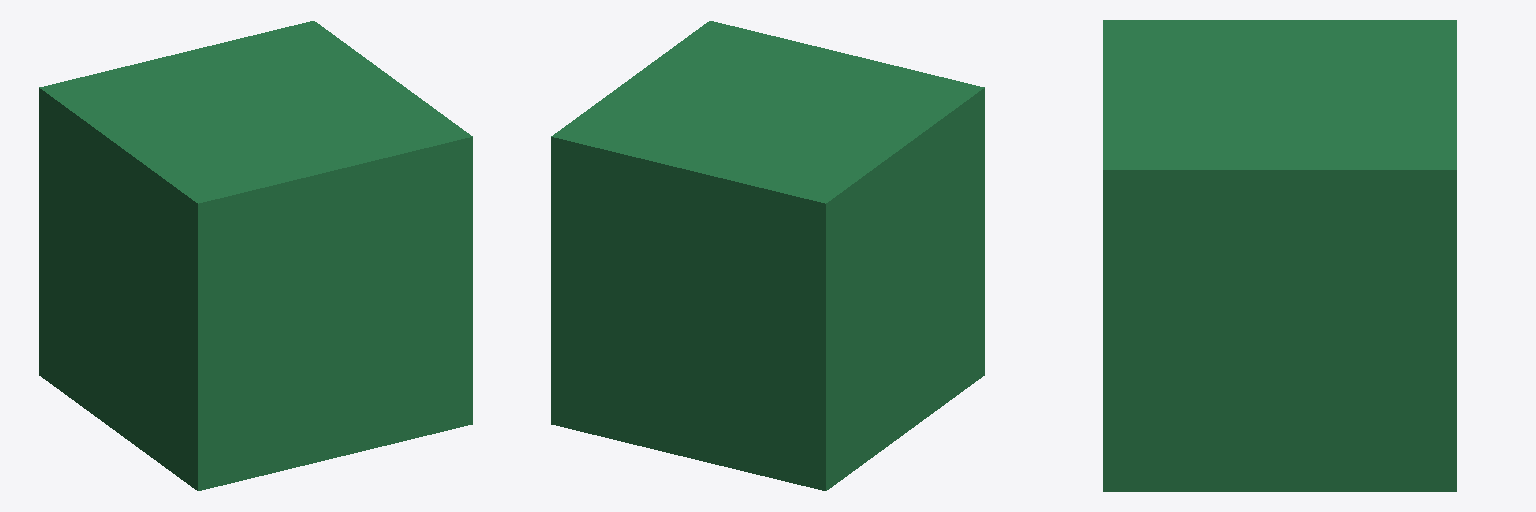
robot.urdf — random_box:
<?xml version='1.0' encoding='UTF-8'?>
<robot name="random_box">
  <link name="box">
    <visual>
      <geometry>
        <box size="0.05 0.05 0.05"/>
      </geometry>
      <material name="color">
        <color rgba="0.24136897618387543 0.5560610909150081 0.36251657057081266 1"/>
      </material>
    </visual>
    <collision>
      <geometry>
        <box size="0.05 0.05 0.05"/>
      </geometry>
    </collision>
  </link>
</robot>

--- What the picture shows (computed from the rendered views, not written in the file) ---
3 views of the same robot in one strip: view 1: azimuth 30°, elevation 25°; view 2: azimuth 150°, elevation 25°; view 3: azimuth 270°, elevation 25° (orthographic).
Model random_box with 1 links and 0 joints (none), rooted at box, posed every joint at zero.
Links seen in each view (by area): view 1: box; view 2: box; view 3: box.
Link boxes in pixels (x1,y1,x2,y2): box: [39, 21, 472, 490]; box: [551, 21, 984, 490]; box: [1103, 20, 1456, 491].
Bounding box of the posed robot: 0.05 × 0.05 × 0.05 m (x, y, z).
Geometry: primitives only (box / cylinder / sphere), no mesh files.